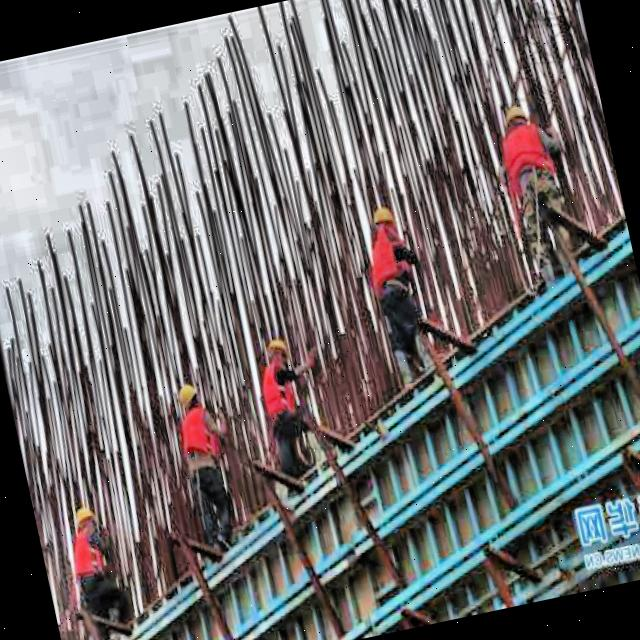helmet: (173, 378, 206, 418), (367, 202, 400, 241), (500, 100, 530, 136), (72, 502, 100, 540), (266, 333, 292, 370)
